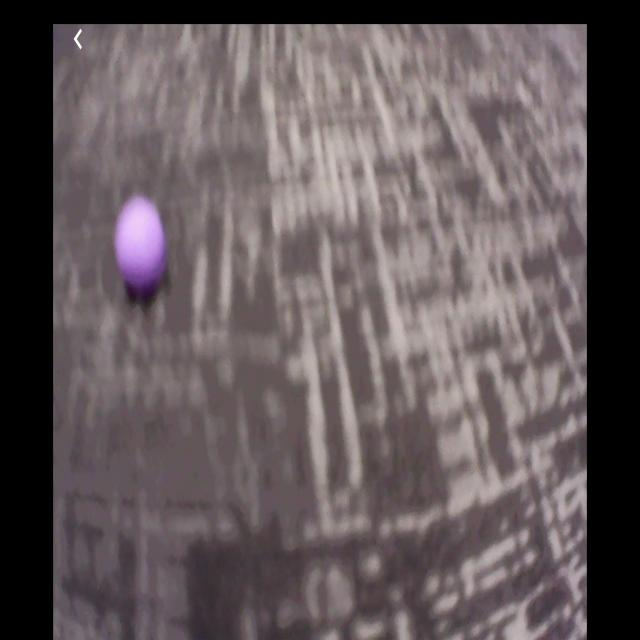ball: (117, 198, 166, 287)
